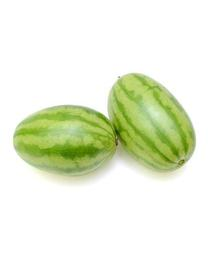watermelon: (107, 72, 198, 175), (12, 104, 119, 176)
